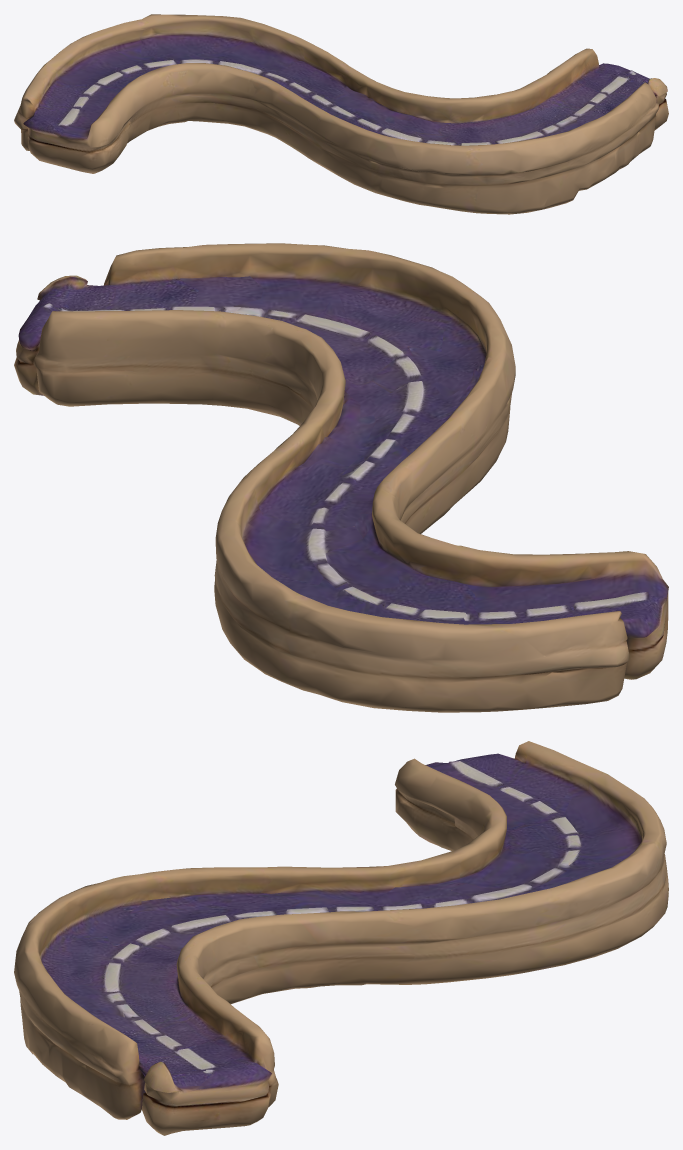
File: road.glb
The picture shows the model from 3 angles, top to bottom: view 1: azimuth 30°, elevation 25°; view 2: azimuth 150°, elevation 25°; view 3: azimuth 270°, elevation 25°; orthographic projection. The views are drawn at different scales.
Visible parts, largest first — view 1: tripo_node_b9187773-757b-4c98-9bed-df042c87ecbb; view 2: tripo_node_b9187773-757b-4c98-9bed-df042c87ecbb; view 3: tripo_node_b9187773-757b-4c98-9bed-df042c87ecbb.
Part boxes in pixels (<box>): tripo_node_b9187773-757b-4c98-9bed-df042c87ecbb: <box>14,14,668,214</box>; tripo_node_b9187773-757b-4c98-9bed-df042c87ecbb: <box>14,243,668,712</box>; tripo_node_b9187773-757b-4c98-9bed-df042c87ecbb: <box>14,741,668,1135</box>.
Size of the model in its own units: 1 by 0.1328 by 0.8156.
1 material, 1 textured.
